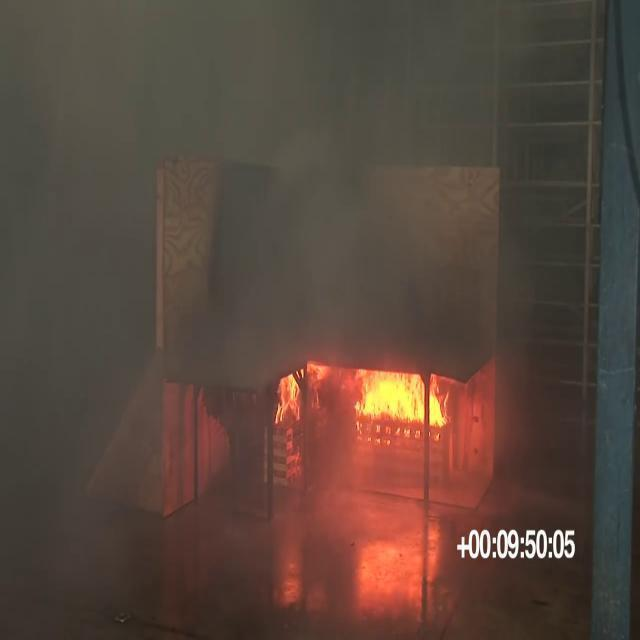Fire: (240, 346, 540, 589)
Smoke: (55, 61, 614, 331)
